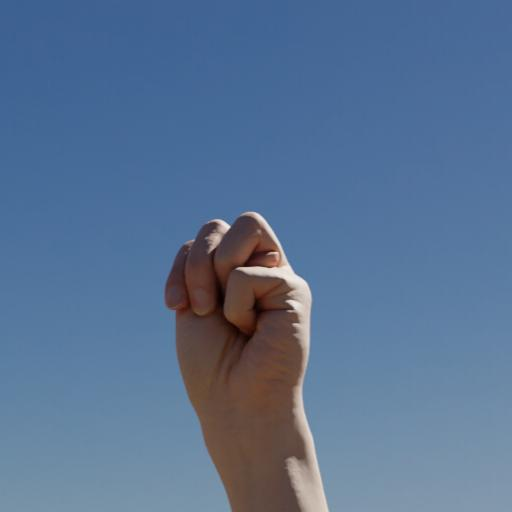M: (160, 208, 320, 420)
